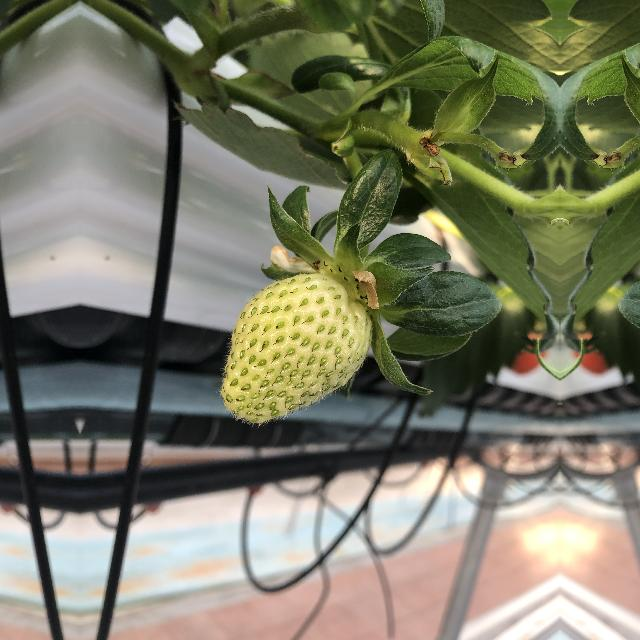Health_25: (217, 262, 381, 430)
